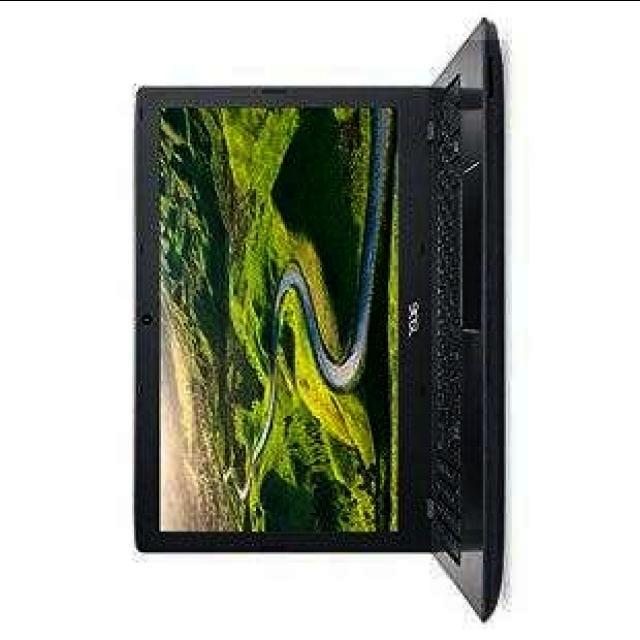-keyboard-: (117, 40, 551, 622)
